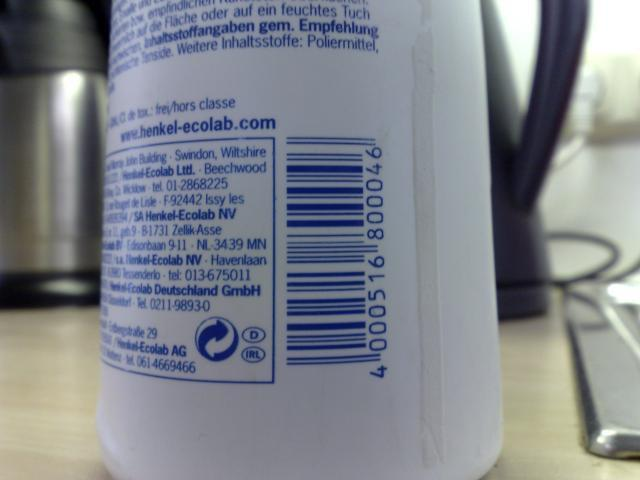Barcode: (278, 118, 398, 391)
